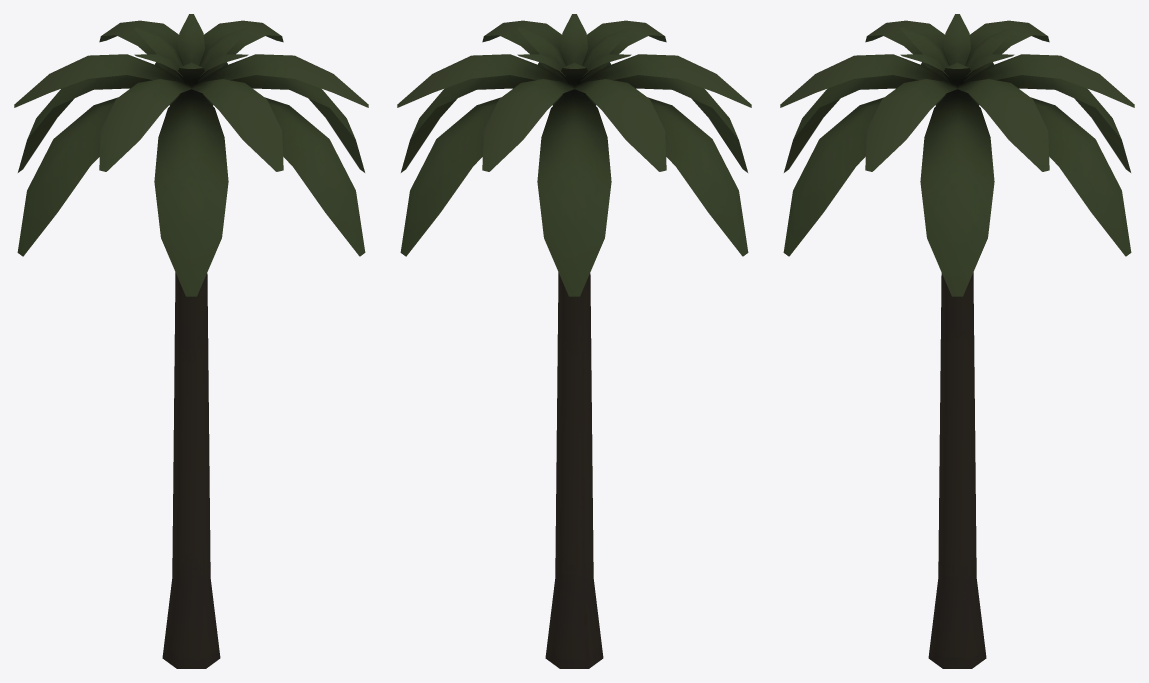
File: palm_n.glb
The picture shows the model from 3 angles, left to right: view 1: azimuth 30°, elevation 25°; view 2: azimuth 150°, elevation 25°; view 3: azimuth 270°, elevation 25°; orthographic projection.
Visible parts, largest first — view 1: Palm.003; view 2: Palm.003; view 3: Palm.003.
Part boxes in pixels (<box>): Palm.003: <box>14,14,368,668</box>; Palm.003: <box>397,14,751,668</box>; Palm.003: <box>780,14,1134,668</box>.
Bounding box in the file's own units: 11.62 × 20.01 × 10.42.
Materials: 1 (1 with a texture image).
